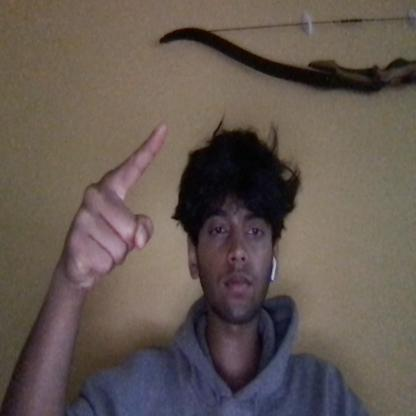finger_point: (135, 113, 185, 155)
